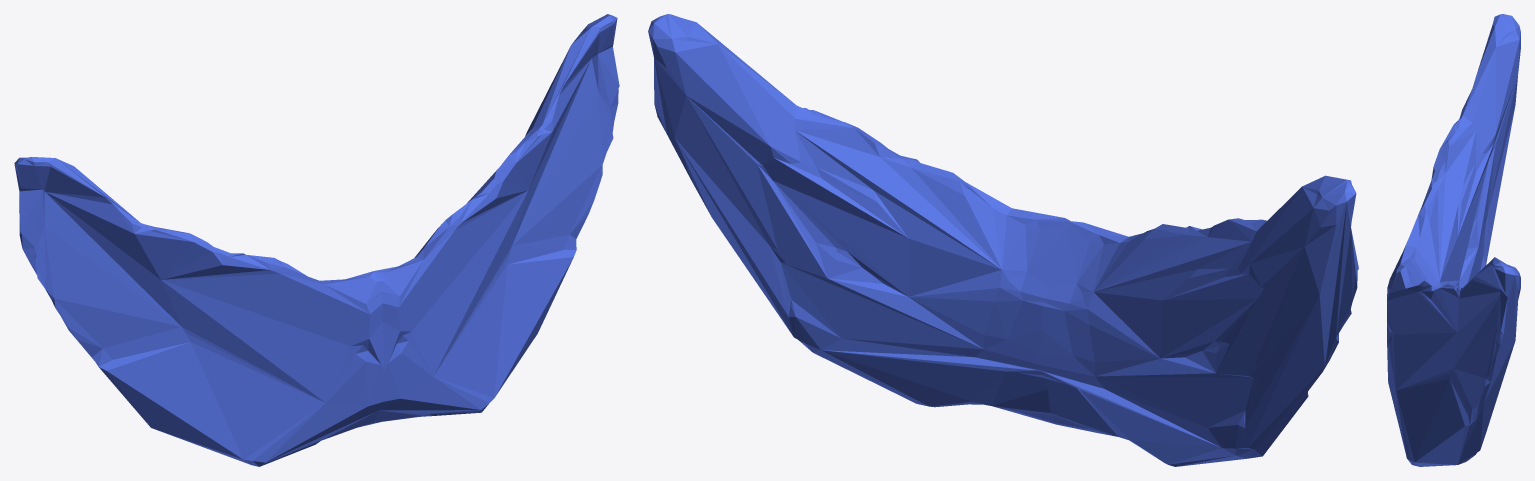
File: JumpHeight.fbx
The picture shows the model from 3 angles, left to right: view 1: azimuth 30°, elevation 25°; view 2: azimuth 150°, elevation 25°; view 3: azimuth 270°, elevation 25°; orthographic projection. The views are drawn at different scales.
Parts seen in each view (by area): view 1: Cube; view 2: Cube; view 3: Cube.
Part boxes in pixels (box(x1,y1,x2,y2)): Cube: box(14, 14, 619, 466); Cube: box(648, 14, 1358, 466); Cube: box(1387, 14, 1520, 466).
Bounding box in the file's own units: 405 × 205 × 88.85.
